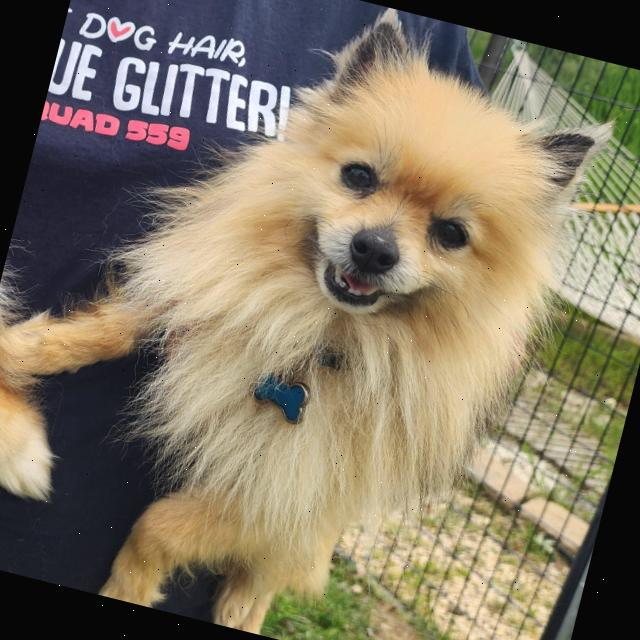pomeranian_dog: (218, 0, 623, 431)
